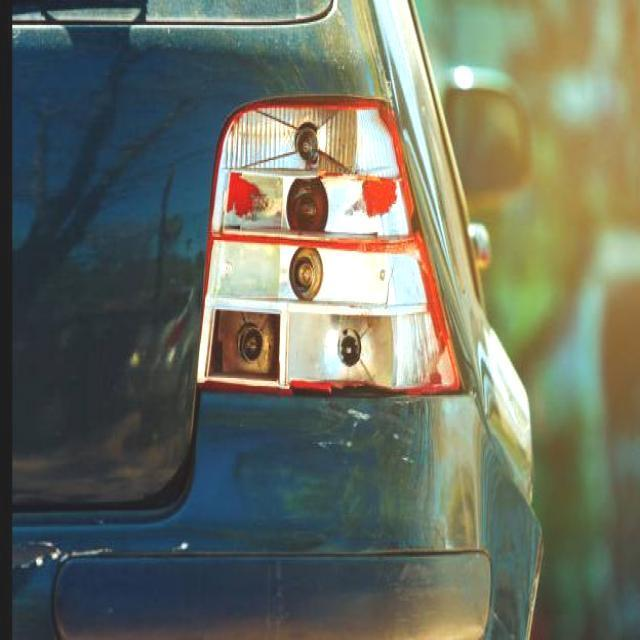minor: (320, 399, 441, 530), (21, 548, 186, 574)
moderate: (200, 104, 470, 400)
